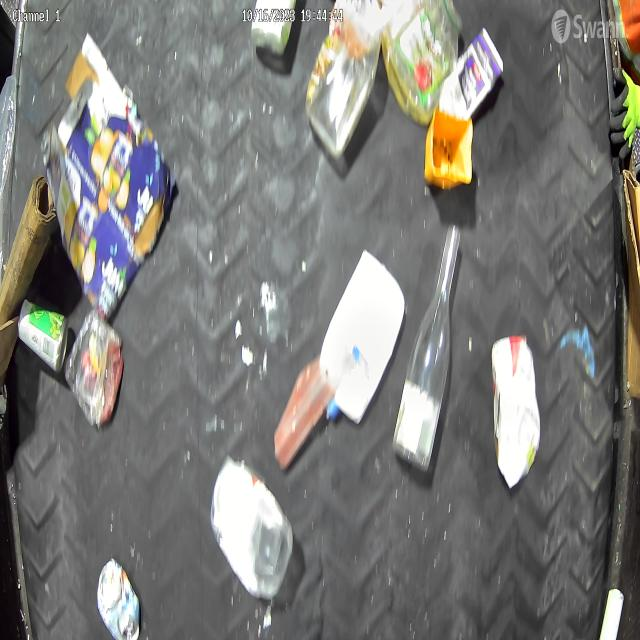can: (17, 298, 70, 374), (96, 556, 141, 640)
milk_jug: (318, 247, 405, 427)
